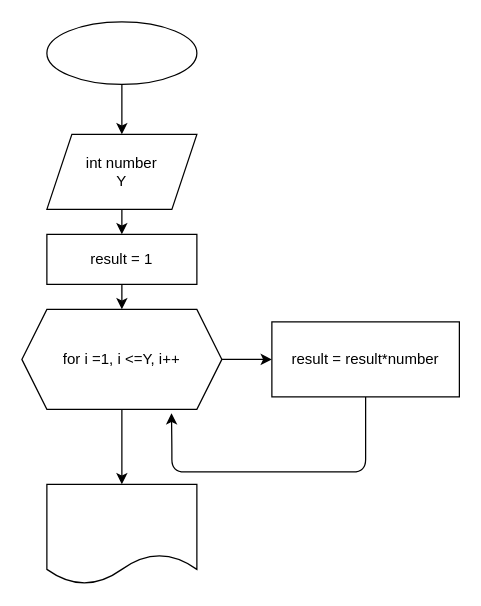
Image size: 481x606. Some labels were removed from this diagram. The shapes that lost their labels are listed below. From the top down, each one's centre as x and y in pixels, then its label:
[121,52]: start
[121,533]: result
